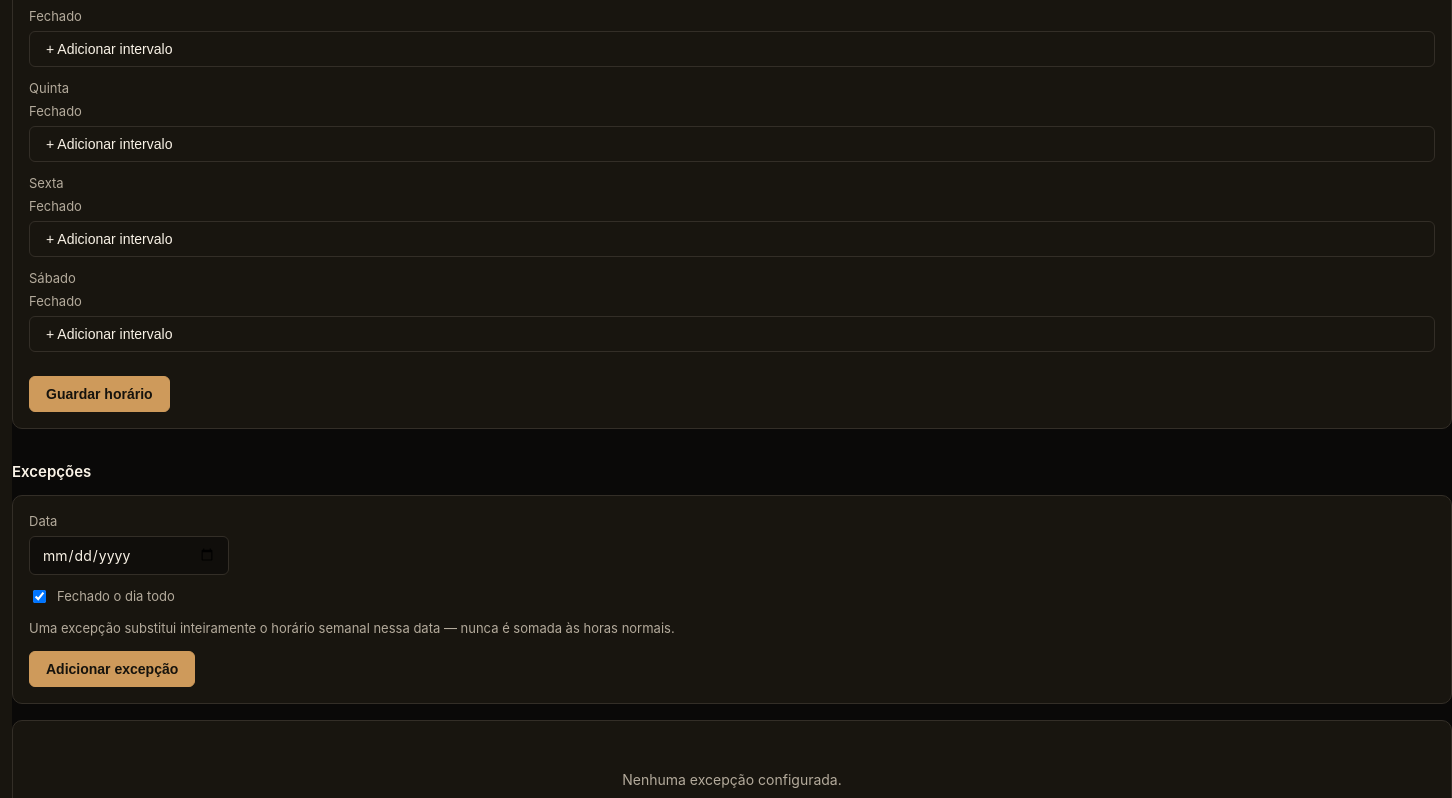
Test case: ProfessionalDetailPage — weekly schedule editor (F26, ADR-039) › Guardar horário sends the flattened rule set, skipping incomplete rows
(page scrolled)
Click the button "Guardar horário".
click(99, 394)  # box x1=29 y1=376 x2=170 y2=412
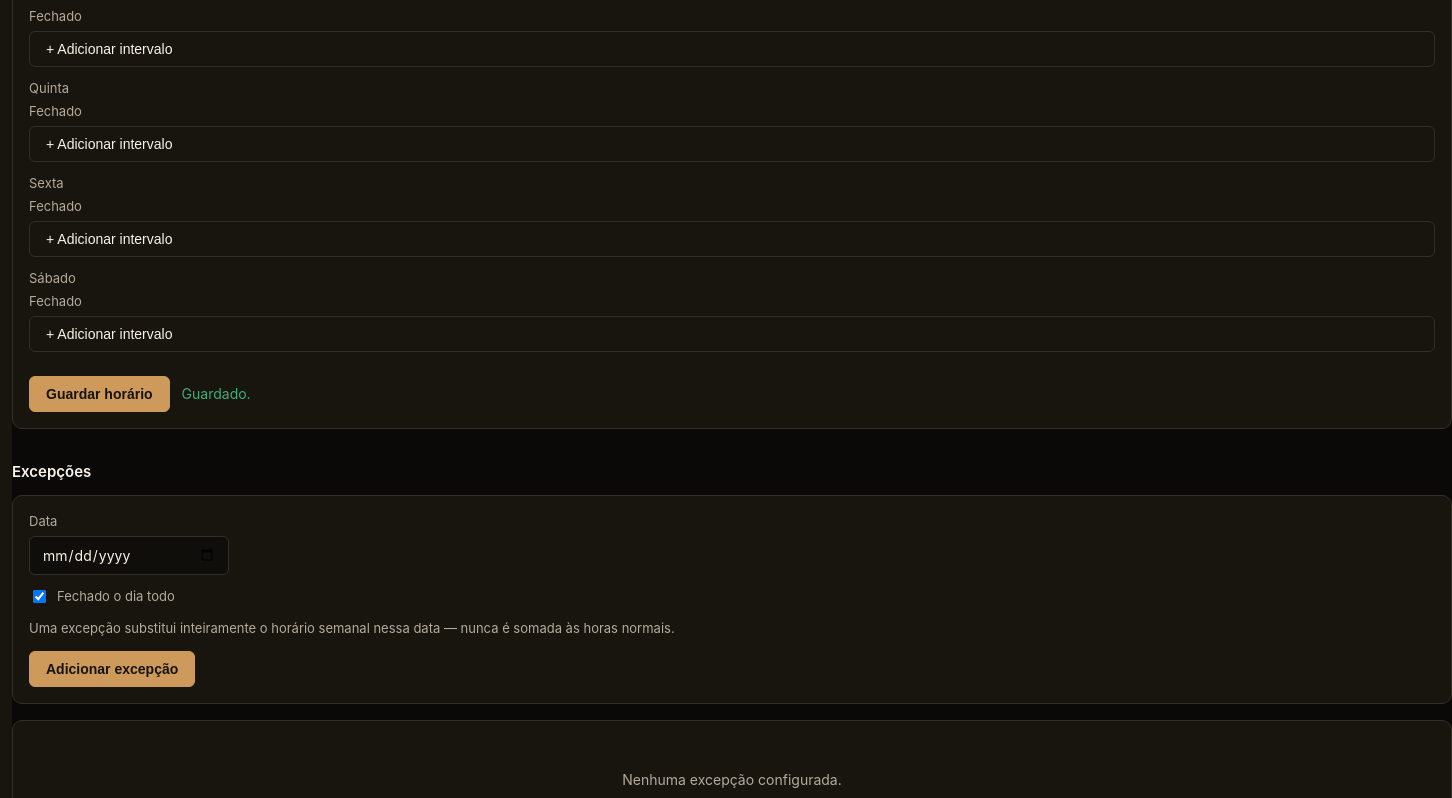
Now the text "Guardado." is shown, box x1=182 y1=385 x2=251 y2=402
